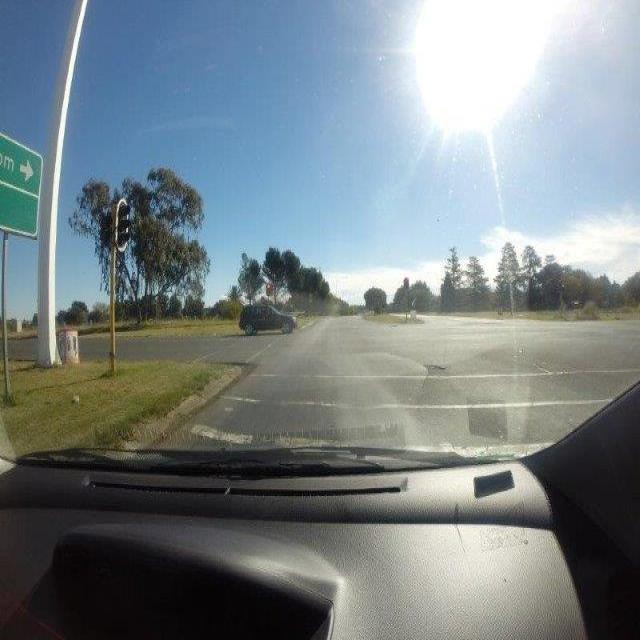jalan retak: (530, 356, 560, 376)
lubang: (419, 362, 450, 374)
